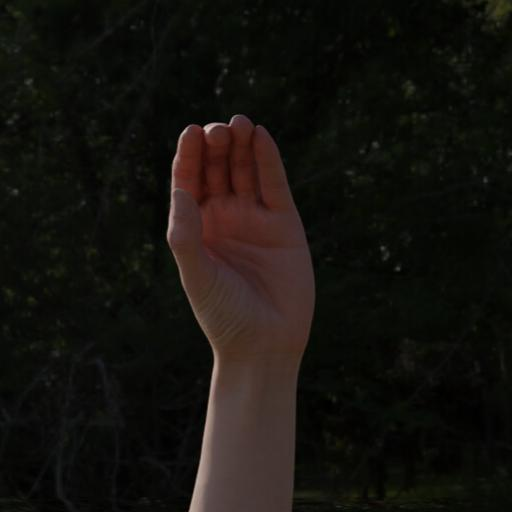C: (147, 94, 356, 384)
